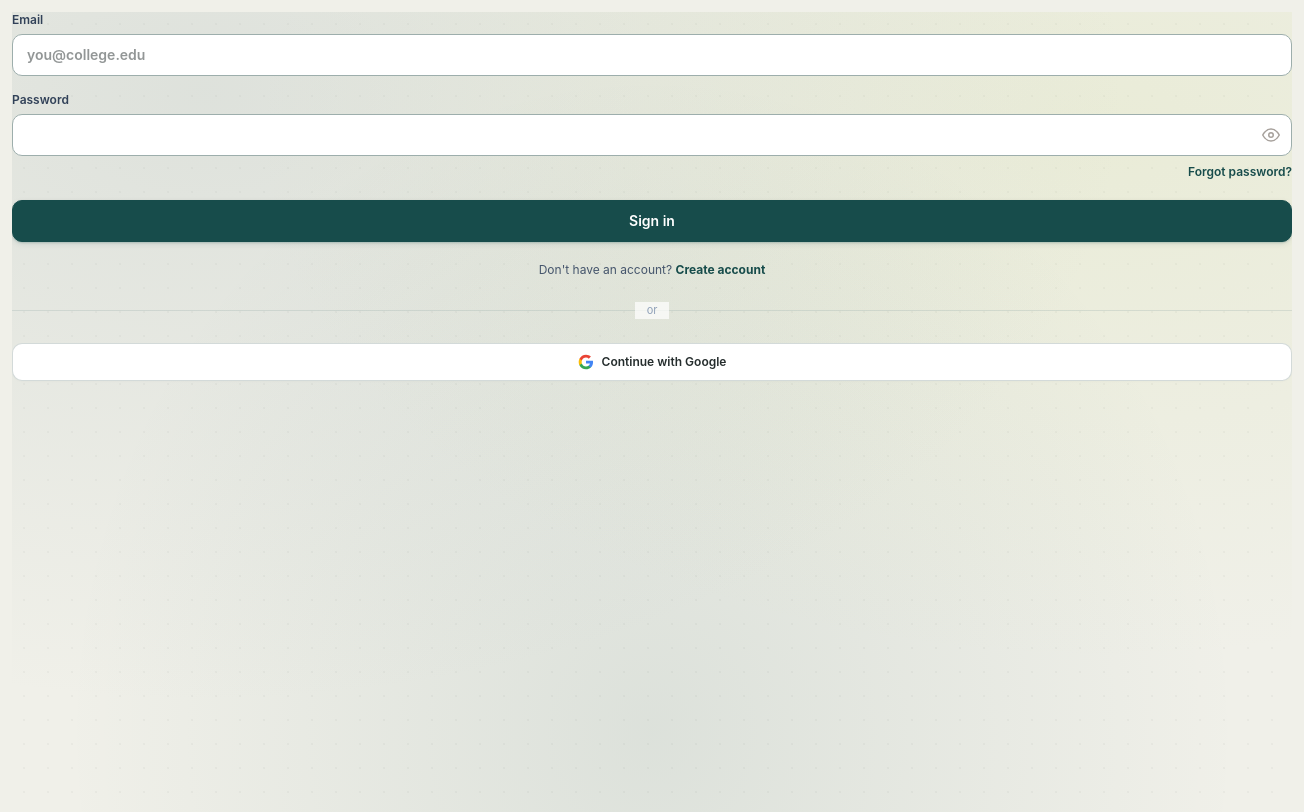
LoginForm › shows a generic error on failed login
Type "a@b.c" into the field labelled "Email" at (652, 55), box [12,34,1292,76]
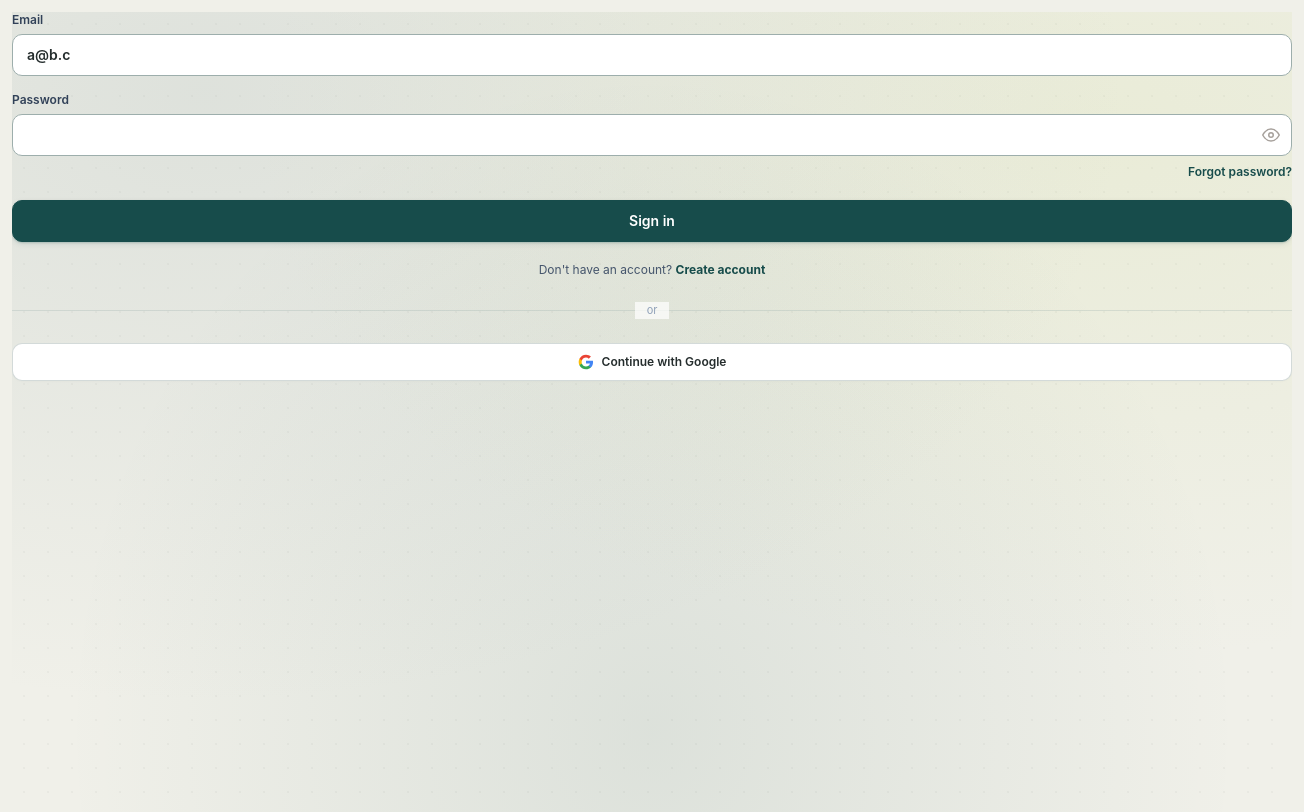
Type "secret123" into the password field labelled "Password" at (652, 135), box [12,114,1292,156]
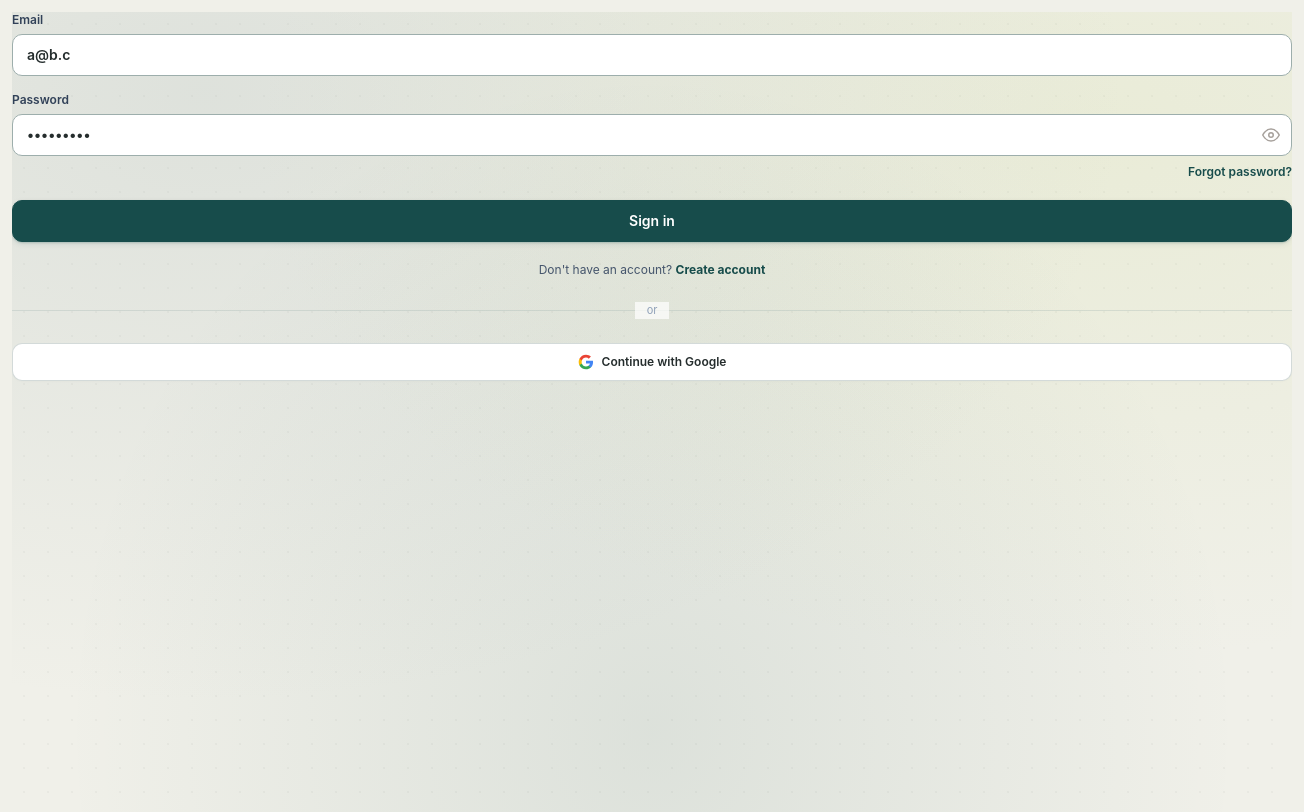
Click the button "Sign in" at (652, 221), box [12,200,1292,242]
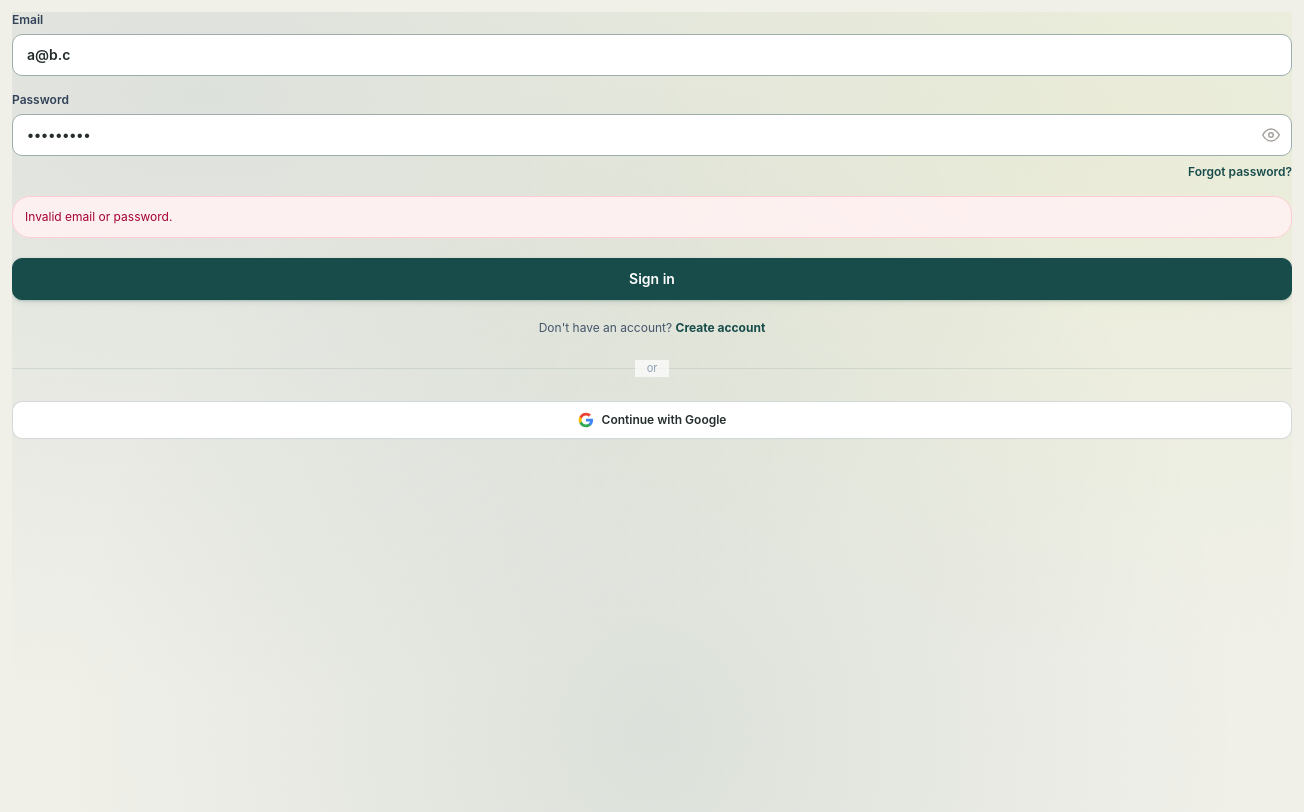
Result: the message "Invalid email or password." is shown at [12,196,1292,238]
Result: the message shows "Invalid email or password" at [25,209,172,224]
